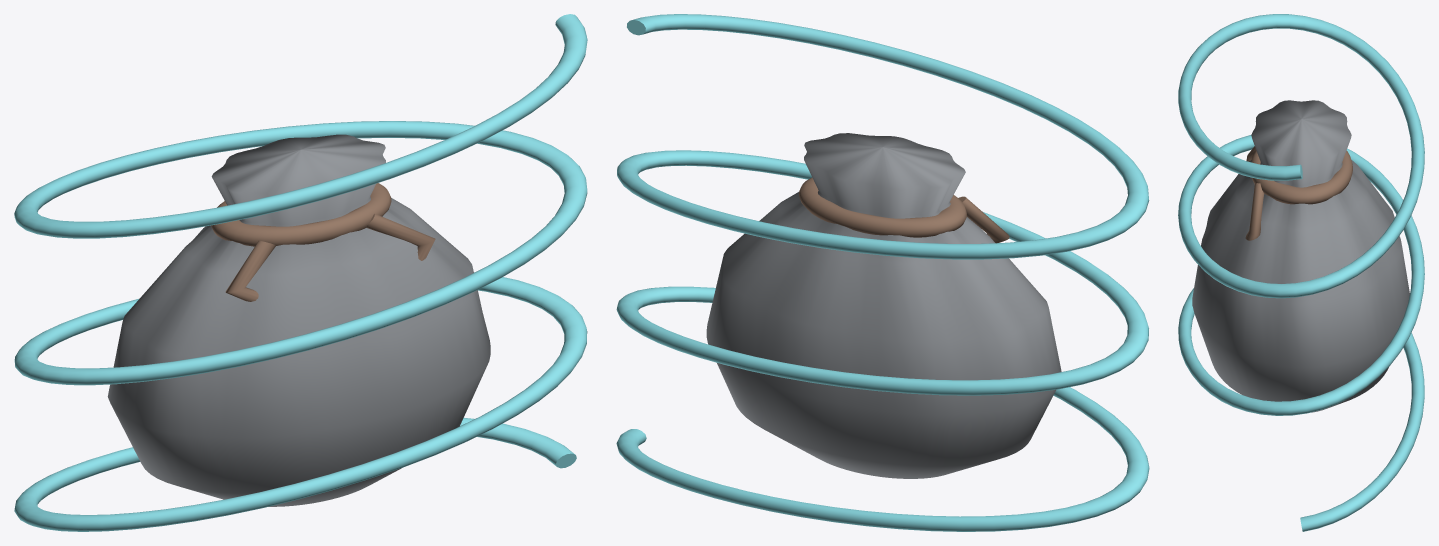
File: money_tear.glb
The picture shows the model from 3 angles, left to right: view 1: azimuth 30°, elevation 25°; view 2: azimuth 150°, elevation 25°; view 3: azimuth 270°, elevation 25°; orthographic projection. The views are drawn at different scales.
Bounding box in the file's own units: 28 × 22 × 13.5.
